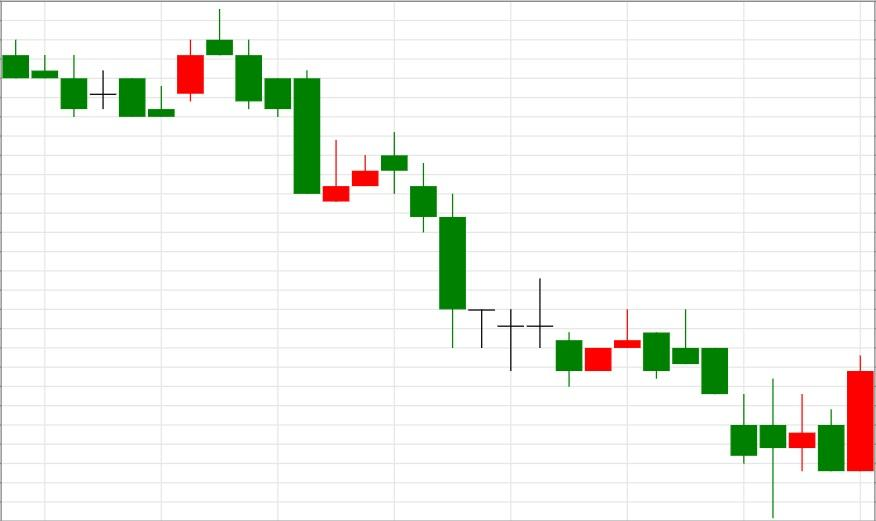three_black_crows_fall: (321, 129, 468, 348)
